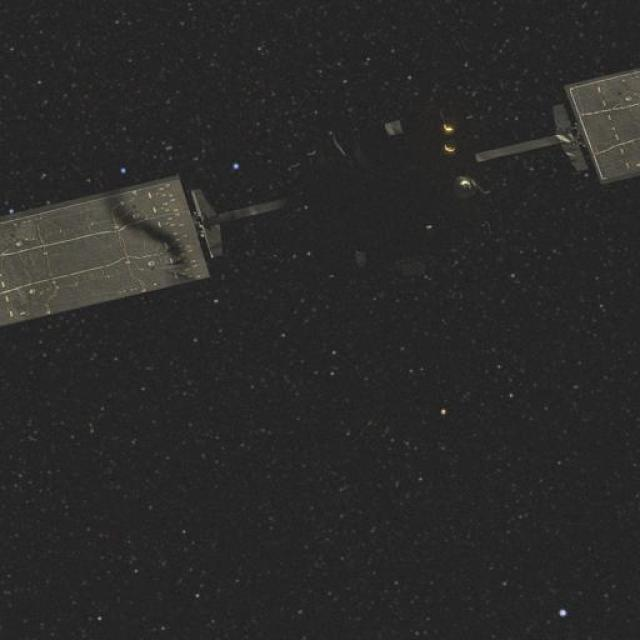smart_1: (290, 89, 491, 288)
